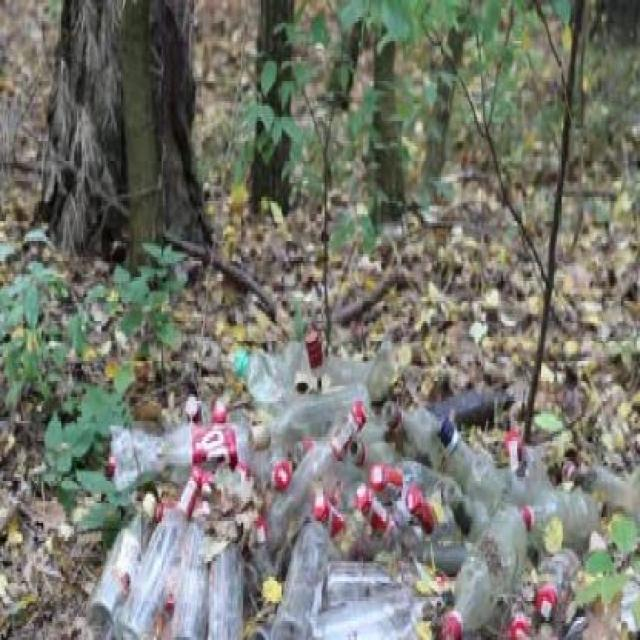garbage: (92, 397, 550, 637), (542, 449, 634, 634), (248, 329, 390, 441)
